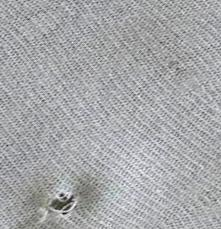hole: (42, 189, 80, 218)
